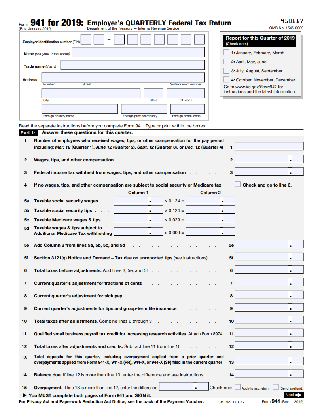checkbox: (222, 66, 230, 74), (222, 58, 231, 65), (233, 180, 242, 187), (233, 383, 242, 390), (271, 383, 280, 390), (222, 49, 230, 56), (222, 76, 230, 83)
textbox: (40, 71, 206, 83), (59, 59, 206, 71), (71, 45, 206, 58), (40, 86, 142, 99), (40, 102, 119, 115), (234, 153, 305, 164), (234, 238, 305, 249), (233, 165, 304, 176), (234, 251, 305, 262), (234, 276, 305, 287), (233, 263, 304, 274), (233, 288, 304, 299), (234, 302, 305, 313), (234, 314, 305, 325), (234, 327, 305, 338), (234, 339, 305, 350), (234, 355, 305, 366), (234, 368, 305, 379), (234, 140, 304, 151), (119, 102, 168, 115), (165, 86, 206, 100), (183, 226, 237, 236), (112, 194, 165, 204), (112, 204, 165, 214), (112, 214, 165, 224), (112, 226, 165, 236), (183, 194, 236, 204), (184, 204, 237, 214), (184, 214, 237, 224), (157, 381, 210, 391), (169, 102, 206, 115), (142, 86, 164, 99), (79, 33, 92, 45), (92, 33, 105, 45), (112, 33, 125, 45), (126, 33, 139, 45), (139, 33, 152, 45), (153, 33, 166, 45), (166, 33, 179, 45), (179, 33, 192, 45), (193, 33, 206, 45)
